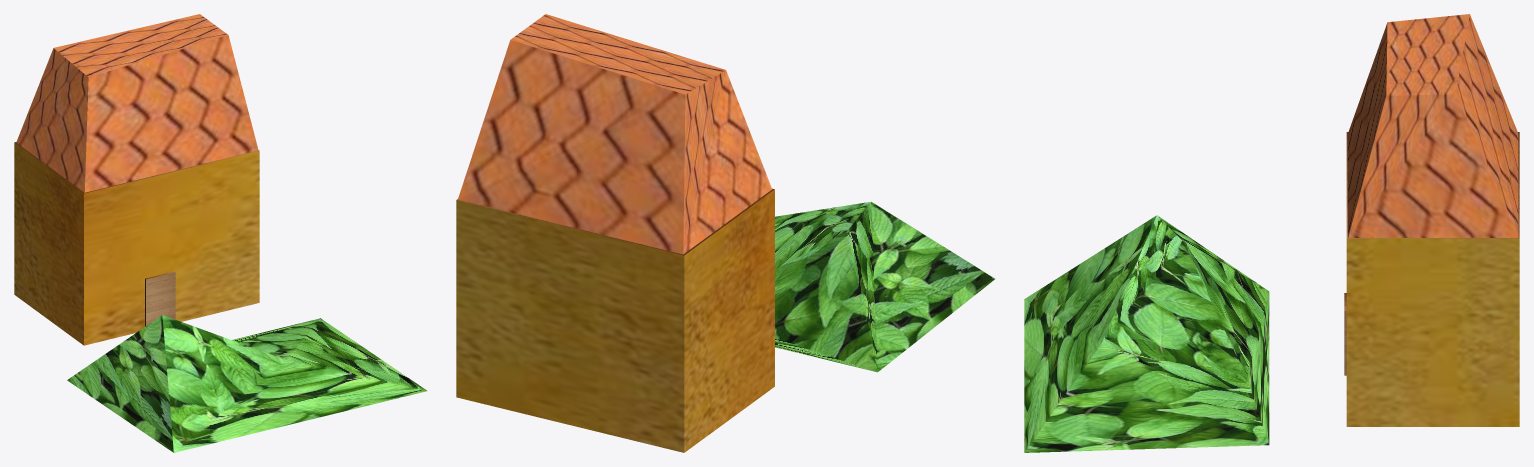
Rendered from casa2.obj.
3 renders of one model, left to right at view 1: azimuth 30°, elevation 25°; view 2: azimuth 150°, elevation 25°; view 3: azimuth 270°, elevation 25°, orthographic. The views are drawn at different scales.
Parts seen in each view (by area): view 1: Cube; view 2: Cube; view 3: Cube.
Boxes of the visible parts, x1,y1,x2,y2 form: Cube: [14, 14, 426, 452]; Cube: [456, 14, 994, 452]; Cube: [1024, 14, 1519, 452].
Bounding box in the file's own units: 10.52 × 10.08 × 13.89.
